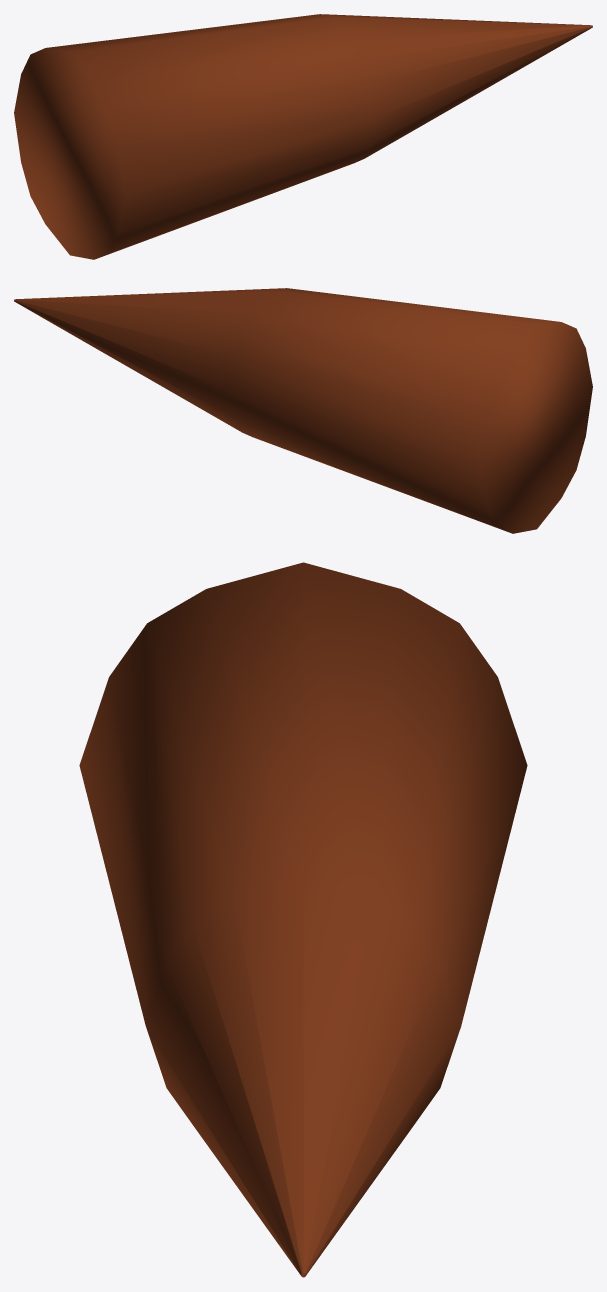
Rendered from Machinegun Projectile.fbx.
3 renders of one model, top to bottom at view 1: azimuth 30°, elevation 25°; view 2: azimuth 150°, elevation 25°; view 3: azimuth 270°, elevation 25°, orthographic. The views are drawn at different scales.
Parts seen in each view (by area): view 1: Cube; view 2: Cube; view 3: Cube.
Part boxes in pixels (x1=…): Cube: x1=14, y1=14, x2=592, y2=259; Cube: x1=14, y1=288, x2=592, y2=533; Cube: x1=79, y1=562, x2=527, y2=1277.
Bounding box in the file's own units: 331 × 123 × 123.
